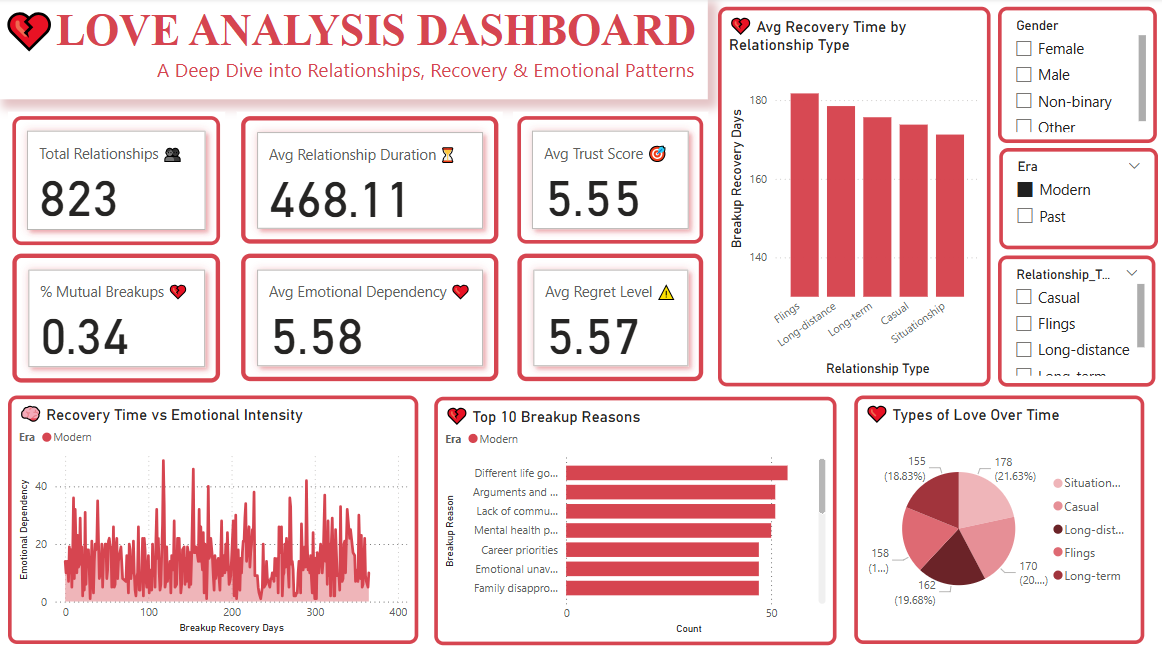

Layout of this report page (visuals, bound fields, positions):
{"tool":"powerbi","page":{"name":"Page 1","canvas":[1280,720],"ordinal":0},"visuals":[{"type":"textbox","box":[0,0,779.4,111.1],"z":0},{"type":"cardVisual","fields":{"Data":["Avg(Love_Analysis_Large_Dataset.Trust_Score)"]},"box":[565.4,124.9,214.1,150.9],"z":1000},{"type":"cardVisual","fields":{"Data":["CountNonNull(Love_Analysis_Large_Dataset.Person_ID)"]},"box":[11.4,124.3,238.6,151.4],"z":2000},{"type":"cardVisual","fields":{"Data":["Avg(Love_Analysis_Large_Dataset.Emotional_Dependency_Score)"]},"box":[262.1,275.8,292.3,150.9],"z":3000},{"type":"cardVisual","fields":{"Data":["Avg(Love_Analysis_Large_Dataset.Relationship_Duration_Days)"]},"box":[262.1,124.9,292.3,150.9],"z":4000},{"type":"cardVisual","fields":{"Data":["Avg(Love_Analysis_Large_Dataset.Regret_Level)"]},"box":[565.4,275.8,214.1,150.9],"z":5000},{"type":"cardVisual","fields":{"Data":["Sum(Love_Analysis_Large_Dataset.Percentage_Mutual_Breakups)"]},"box":[11.4,275.7,238.6,151.4],"z":6000},{"type":"pieChart","title":"❤️ Types of Love Over Time","fields":{"Category":["Love_Analysis_Large_Dataset.Relationship_Type"],"Y":["CountNonNull(Love_Analysis_Large_Dataset.Relationship_Type)"]},"box":[940,436.4,318.4,273.1],"z":7000},{"type":"lineChart","title":"🧠 Recovery Time vs Emotional Intensity","fields":{"Category":["Love_Analysis_Large_Dataset.Breakup_Recovery_Days"],"Y":["Sum(Love_Analysis_Large_Dataset.Emotional_Dependency_Score)"],"Series":["Love_Analysis_Large_Dataset.Era"]},"box":[11,436.4,450.1,273.1],"z":8000},{"type":"clusteredBarChart","title":"💔 Top 10 Breakup Reasons","fields":{"Category":["Love_Analysis_Large_Dataset.Breakup_Reason"],"Y":["CountNonNull(Love_Analysis_Large_Dataset.Breakup_Reason)"],"Series":["Love_Analysis_Large_Dataset.Era"]},"box":[478.9,437.7,441.9,273.1],"z":9000},{"type":"slicer","fields":{"Values":["Love_Analysis_Large_Dataset.Era"]},"box":[1099.1,164.7,174.3,111.1],"z":10000},{"type":"slicer","fields":{"Values":["Love_Analysis_Large_Dataset.Gender"]},"box":[1097.8,9.6,174.3,149.6],"z":11000},{"type":"columnChart","title":"💔 Avg Recovery Time by Relationship Type","fields":{"Category":["Love_Analysis_Large_Dataset.Relationship_Type"],"Y":["Avg(Love_Analysis_Large_Dataset.Breakup_Recovery_Days)"]},"box":[790.4,9.6,299.1,417.2],"z":13000},{"type":"slicer","fields":{"Values":["Love_Analysis_Large_Dataset.Relationship_Type"]},"box":[1097.8,282.7,172.9,144.1],"z":13001}]}

Visuals, with their boxes in screenshot pixels (x1, y1, x2, y2), scaled from the page's 1280x720 canvas onto the 1162x653 screenshot:
textbox: 0/0/708/101
cardVisual - Avg(Love_Analysis_Large_Dataset.Trust_Score): 513/113/708/250
cardVisual - CountNonNull(Love_Analysis_Large_Dataset.Person_ID): 10/113/227/250
cardVisual - Avg(Love_Analysis_Large_Dataset.Emotional_Dependency_Score): 238/250/503/387
cardVisual - Avg(Love_Analysis_Large_Dataset.Relationship_Duration_Days): 238/113/503/250
cardVisual - Avg(Love_Analysis_Large_Dataset.Regret_Level): 513/250/708/387
cardVisual - Sum(Love_Analysis_Large_Dataset.Percentage_Mutual_Breakups): 10/250/227/387
"❤️ Types of Love Over Time" pieChart: 853/396/1142/643
"🧠 Recovery Time vs Emotional Intensity" lineChart: 10/396/419/643
"💔 Top 10 Breakup Reasons" clusteredBarChart: 435/397/836/645
slicer - Love_Analysis_Large_Dataset.Era: 998/149/1156/250
slicer - Love_Analysis_Large_Dataset.Gender: 997/9/1155/144
"💔 Avg Recovery Time by Relationship Type" columnChart: 718/9/989/387
slicer - Love_Analysis_Large_Dataset.Relationship_Type: 997/256/1154/387
